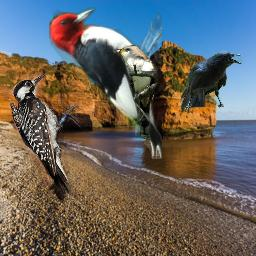Crow: (179, 51, 242, 114)
Cuckoo: (113, 45, 158, 139)
Woodpecker: (49, 7, 162, 159), (4, 69, 89, 202)
